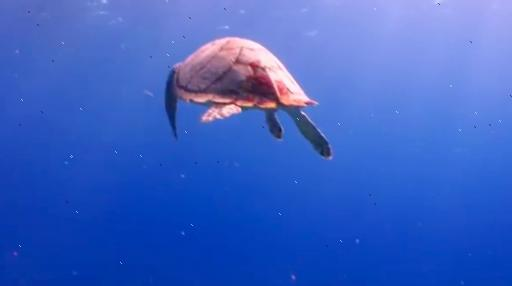Fish: (165, 37, 331, 158)
